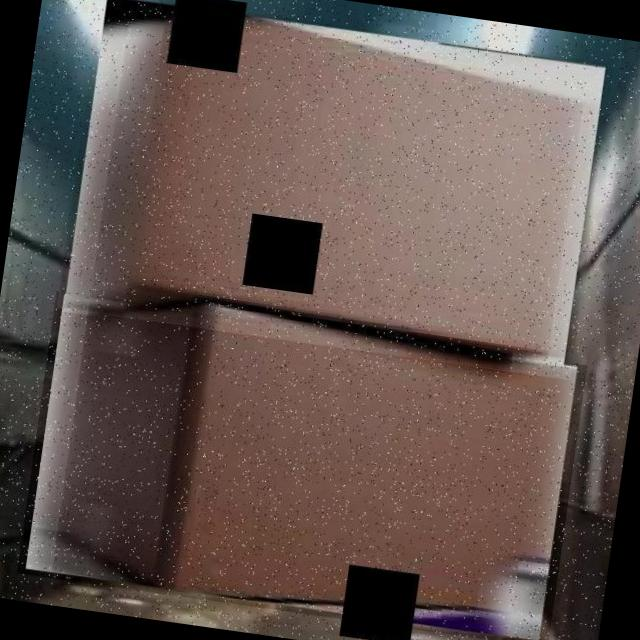box: (57, 0, 614, 381), (16, 291, 587, 640)
